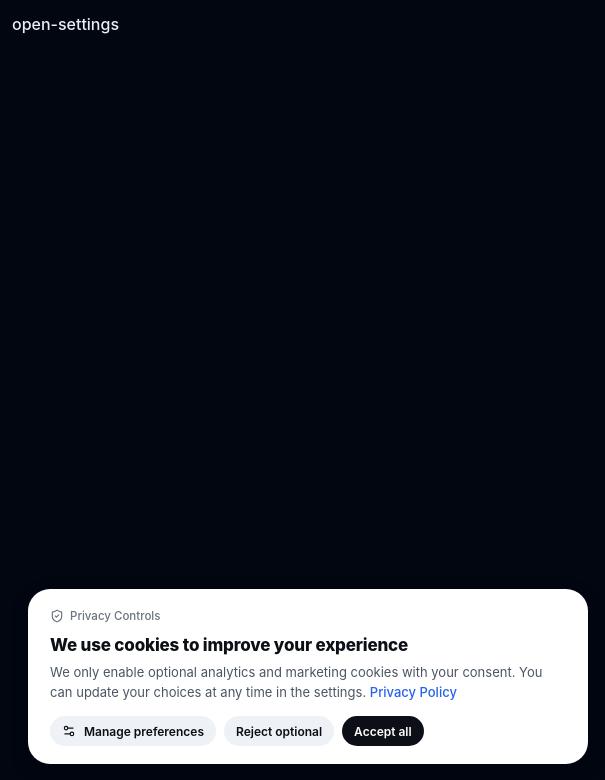
Test: CookieConsentManager › renders the banner for first-time visitors and stores consent after accept all
Expected: the heading "We use cookies to improve your experience" is shown, 50,635 -> 408,655
Click the button "Accept all" at (383, 731), box 342,716 -> 424,746
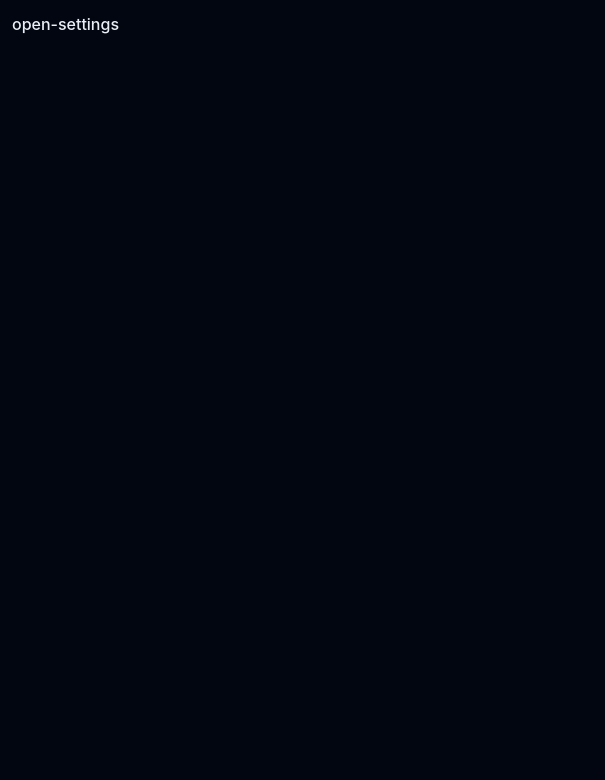
Expected: the heading "We use cookies to improve your experience" is gone
